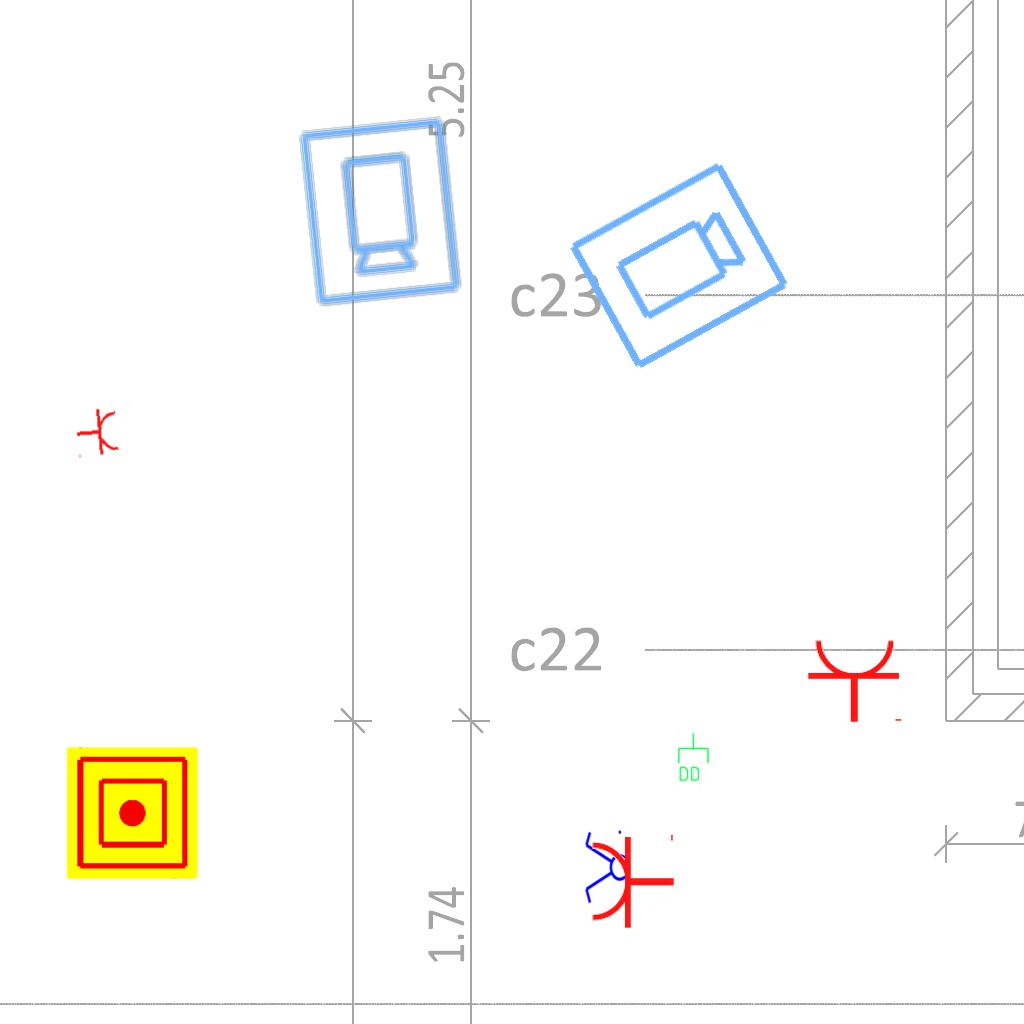Datenanschluss_zweifach: (676, 732, 710, 783)
KFO_Kamera_mit_Festobjektiv: (562, 155, 796, 379), (292, 112, 466, 310)
NAM-Nichtautomatischer_Melder: (66, 747, 198, 879)
Schukosteckdose_einfach: (806, 637, 906, 724), (589, 830, 676, 930), (73, 406, 122, 460)
Serienschalter: (583, 826, 631, 910)
